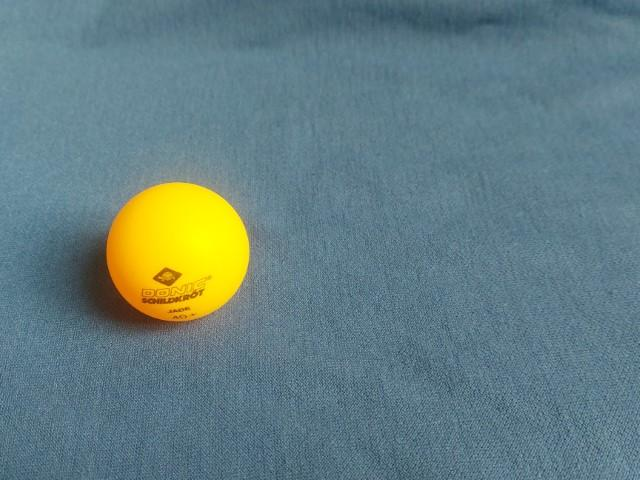oball: (102, 177, 252, 327)
